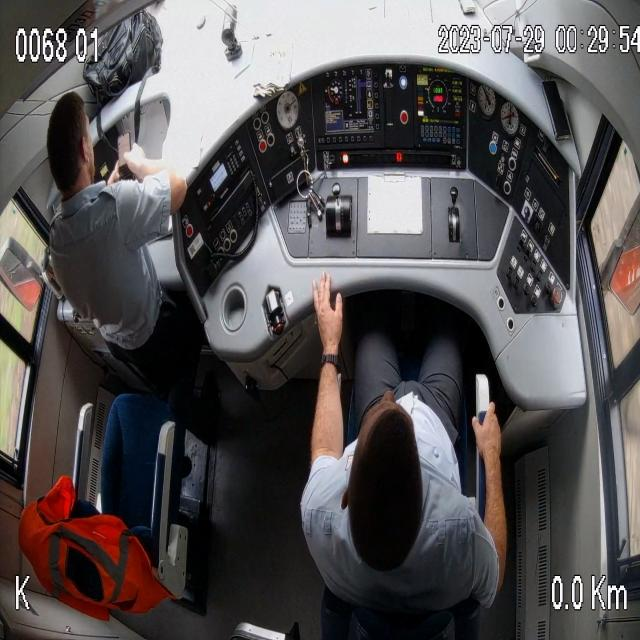smartphone: (114, 128, 135, 186)
